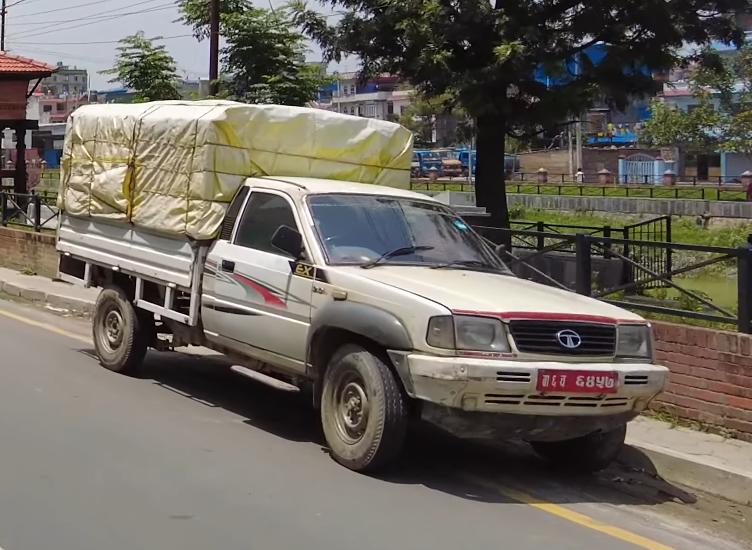transport_vehicle: (55, 97, 675, 481)
